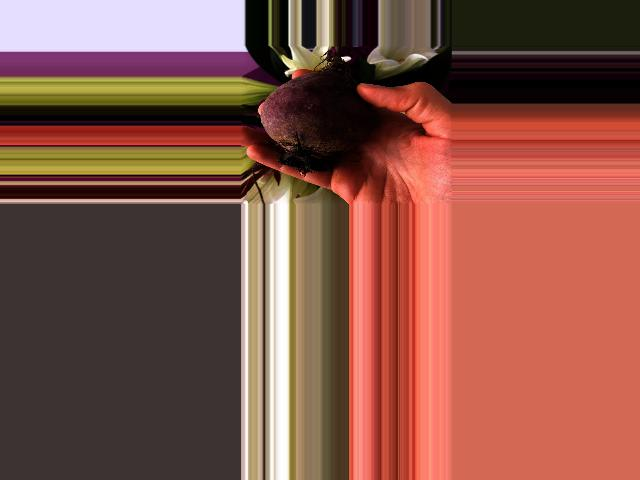beet: (259, 46, 373, 176)
